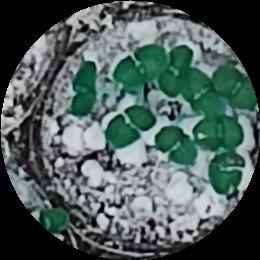Basil: (212, 63, 256, 119), (183, 65, 223, 117), (67, 62, 103, 118), (110, 104, 155, 148), (113, 50, 165, 87), (158, 48, 195, 100), (154, 127, 201, 165), (209, 152, 246, 200), (194, 115, 243, 151)
